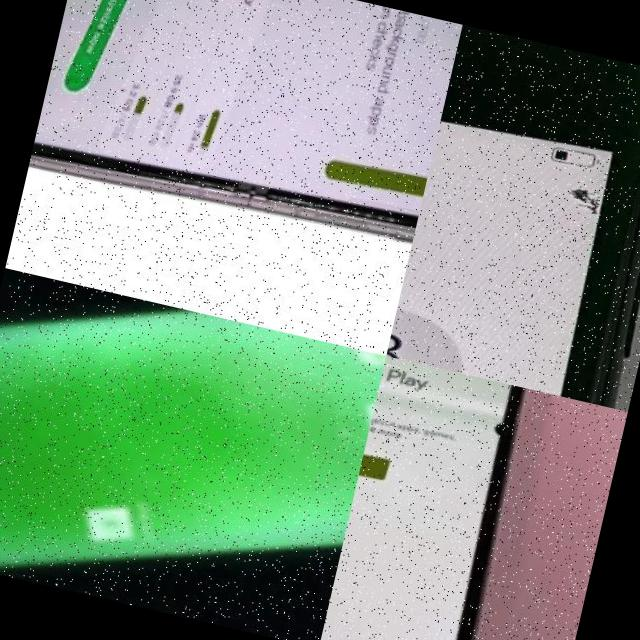dead pixel: (499, 141, 640, 242), (470, 406, 524, 448)
